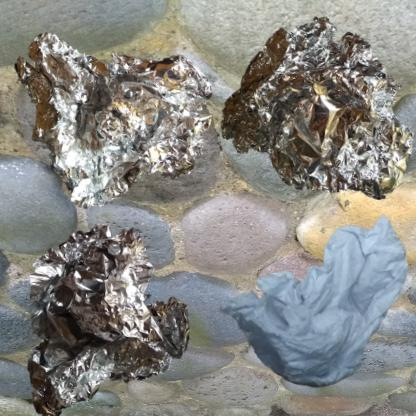aluminio: (10, 10, 229, 219), (213, 10, 416, 211), (10, 213, 204, 416)
papel: (213, 213, 416, 394)
